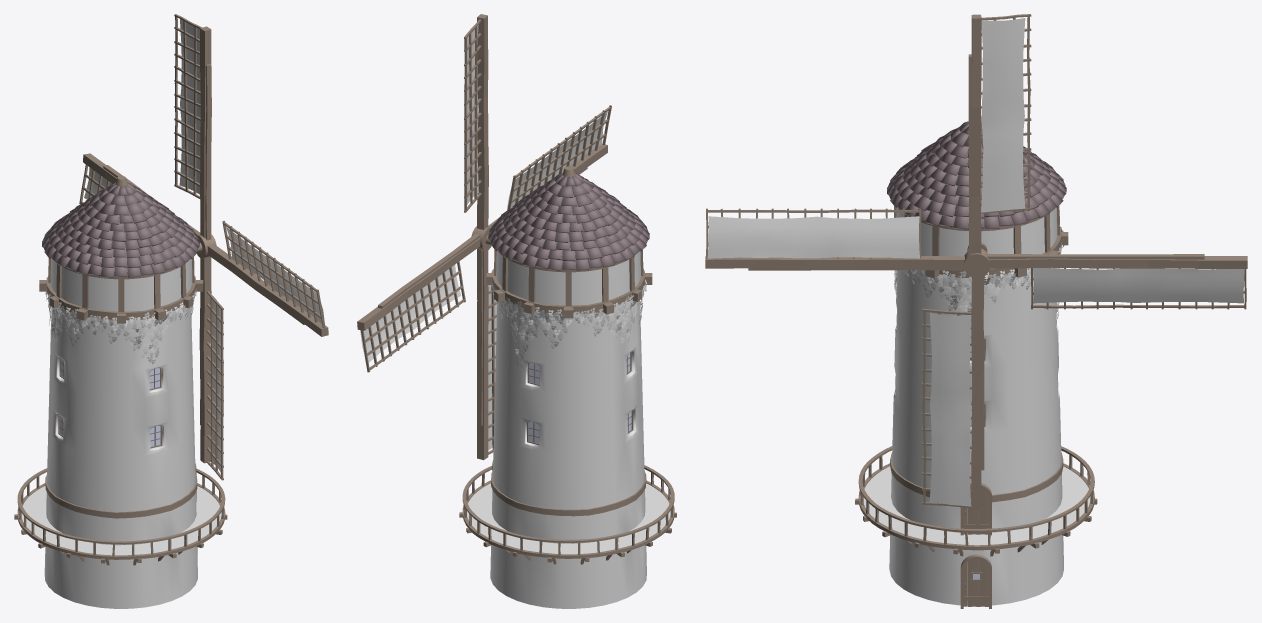
The model's file is Windmill_1.fbx.
3 views of the same model, side by side, from view 1: azimuth 30°, elevation 25°; view 2: azimuth 150°, elevation 25°; view 3: azimuth 270°, elevation 25° (orthographic). The views are drawn at different scales.
Visible parts, largest first — view 1: Windmill_1_LOD0, Windmill_1_Blades_LOD0, Windmill_1_Ivy_LOD0; view 2: Windmill_1_LOD0, Windmill_1_Blades_LOD0, Windmill_1_Ivy_LOD0; view 3: Windmill_1_LOD0, Windmill_1_Blades_LOD0, Windmill_1_Ivy_LOD0.
Boxes of the visible parts, bbox=[...] form: Windmill_1_LOD0: bbox=[14, 176, 227, 608]; Windmill_1_Blades_LOD0: bbox=[79, 14, 328, 480]; Windmill_1_Ivy_LOD0: bbox=[45, 277, 196, 364]; Windmill_1_LOD0: bbox=[459, 166, 676, 608]; Windmill_1_Blades_LOD0: bbox=[357, 14, 611, 460]; Windmill_1_Ivy_LOD0: bbox=[491, 270, 647, 369]; Windmill_1_LOD0: bbox=[855, 116, 1097, 608]; Windmill_1_Blades_LOD0: bbox=[705, 14, 1247, 509]; Windmill_1_Ivy_LOD0: bbox=[894, 226, 1064, 321].
Size of what is drawn, in the model's own units: 1184 by 3268 by 2673.
